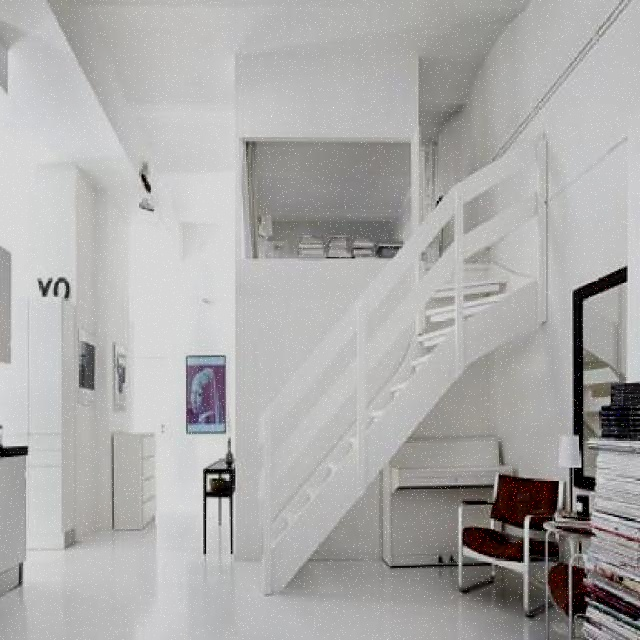stair: (234, 128, 554, 618)
